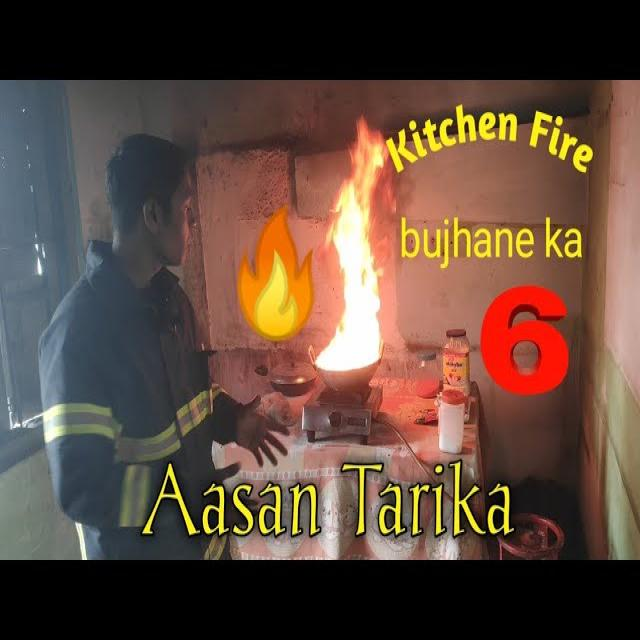fire: (316, 251, 381, 370), (325, 181, 372, 251), (348, 114, 388, 181)
